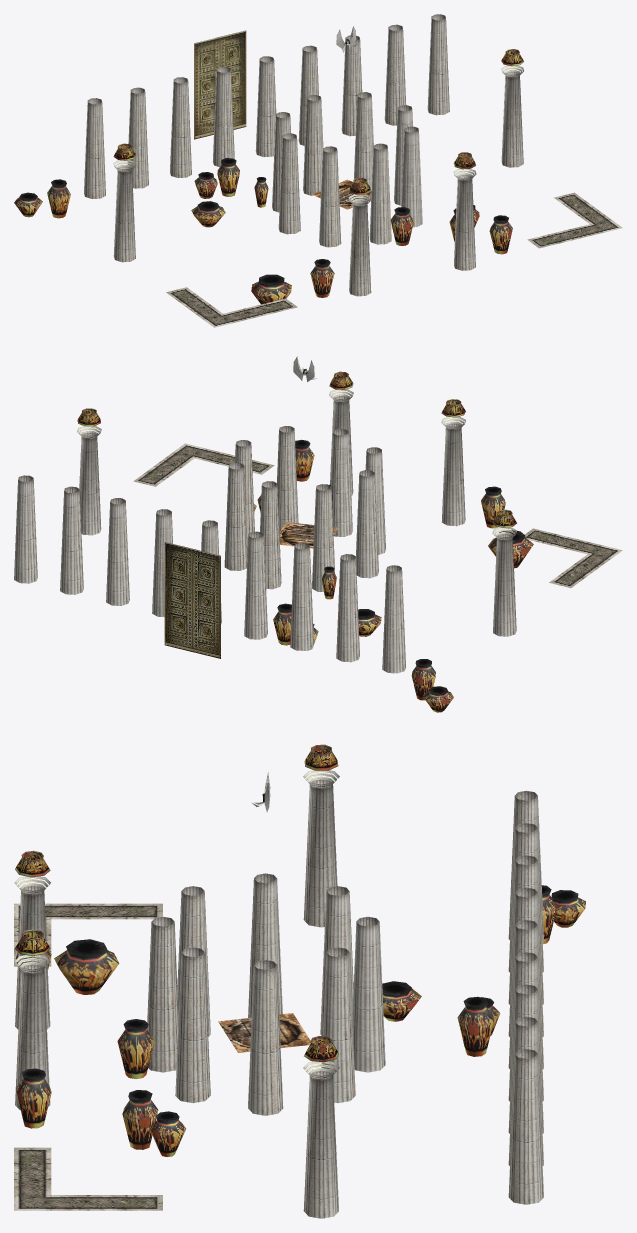
Rendered from hele_civic_props.dae.
The picture shows the model from 3 angles, top to bottom: view 1: azimuth 30°, elevation 25°; view 2: azimuth 150°, elevation 25°; view 3: azimuth 270°, elevation 25°; orthographic projection. The views are drawn at different scales.
Parts seen in each view (by area): view 1: tallAmfora-Pivot; view 2: tallAmfora-Pivot; view 3: tallAmfora-Pivot.
Boxes of the visible parts, x1,y1,x2,y2 form: tallAmfora-Pivot: (14,14,622,327); tallAmfora-Pivot: (14,356,622,712); tallAmfora-Pivot: (14,744,585,1218).
Bounding box in the file's own units: 29.4 × 23.57 × 13.4.
